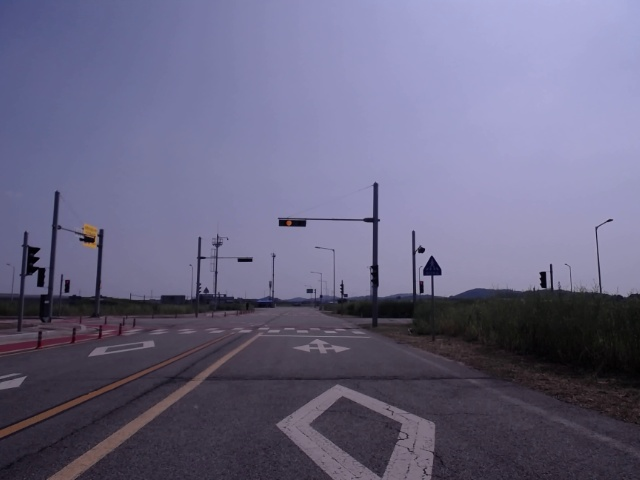orange_4: (278, 217, 308, 228)
